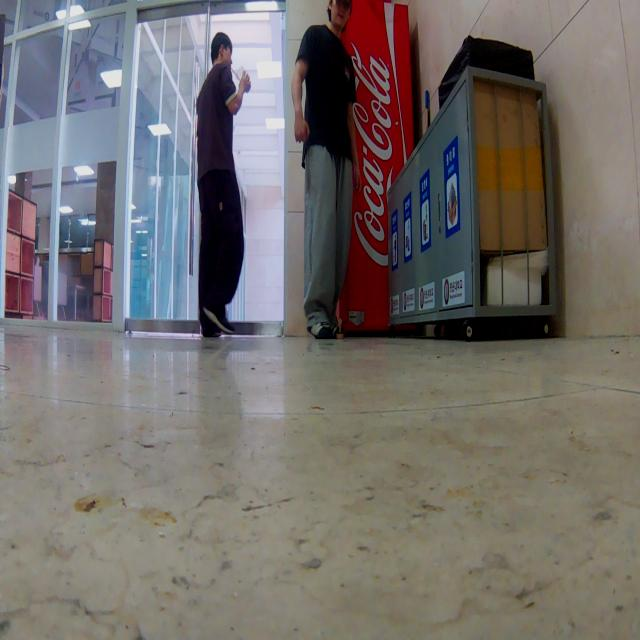target: (335, 316, 345, 342)
